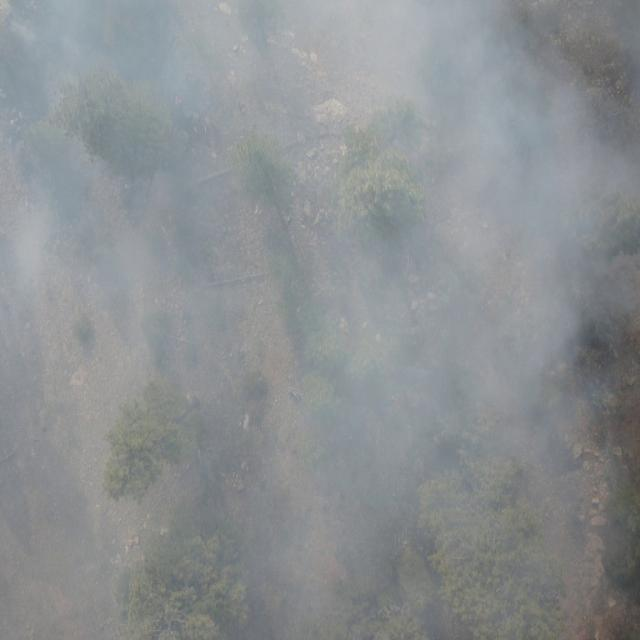fire: (172, 94, 184, 105)
smoke: (0, 0, 640, 640)
